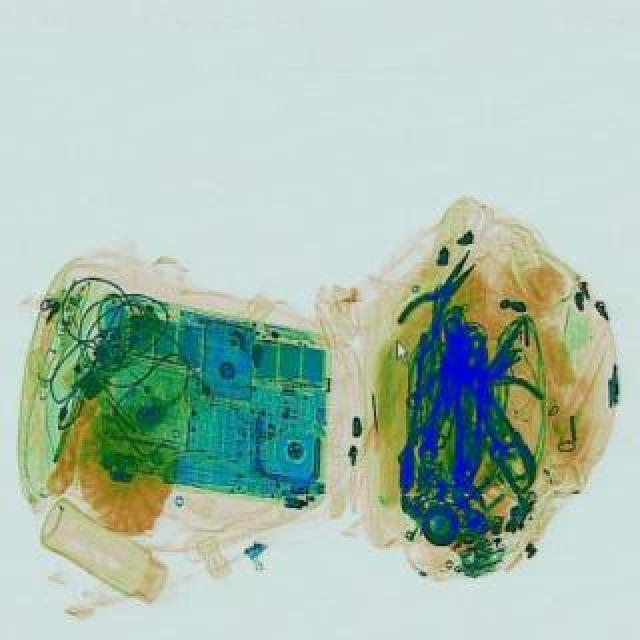wrench: (394, 240, 494, 344)
